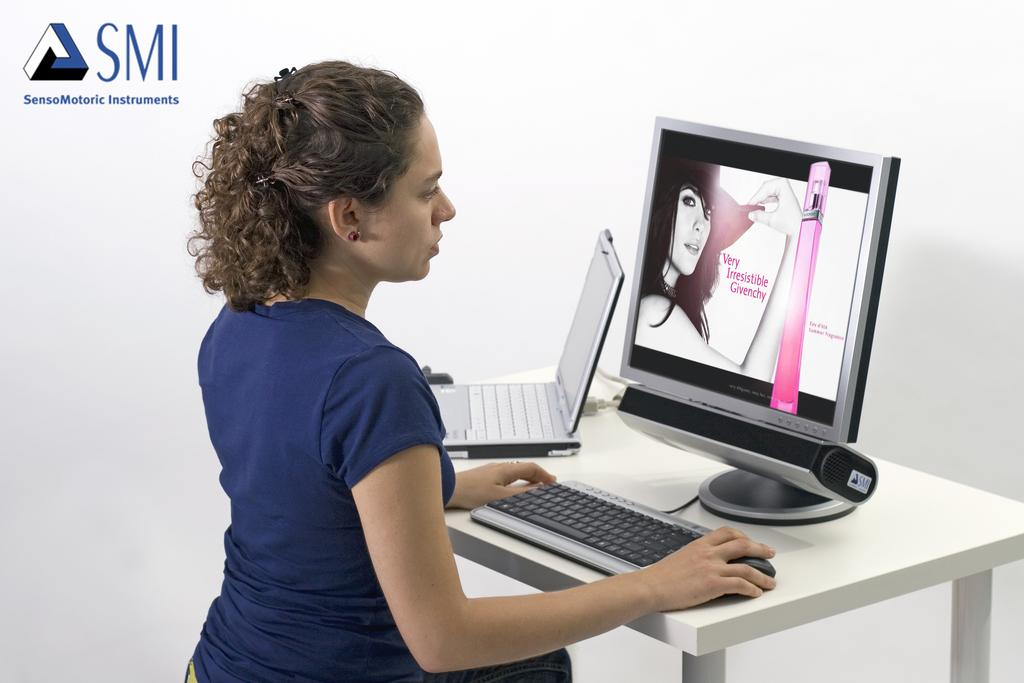Computer-keyboard: (472, 477, 714, 576), (464, 383, 555, 441)
Laptop: (428, 230, 625, 460)
